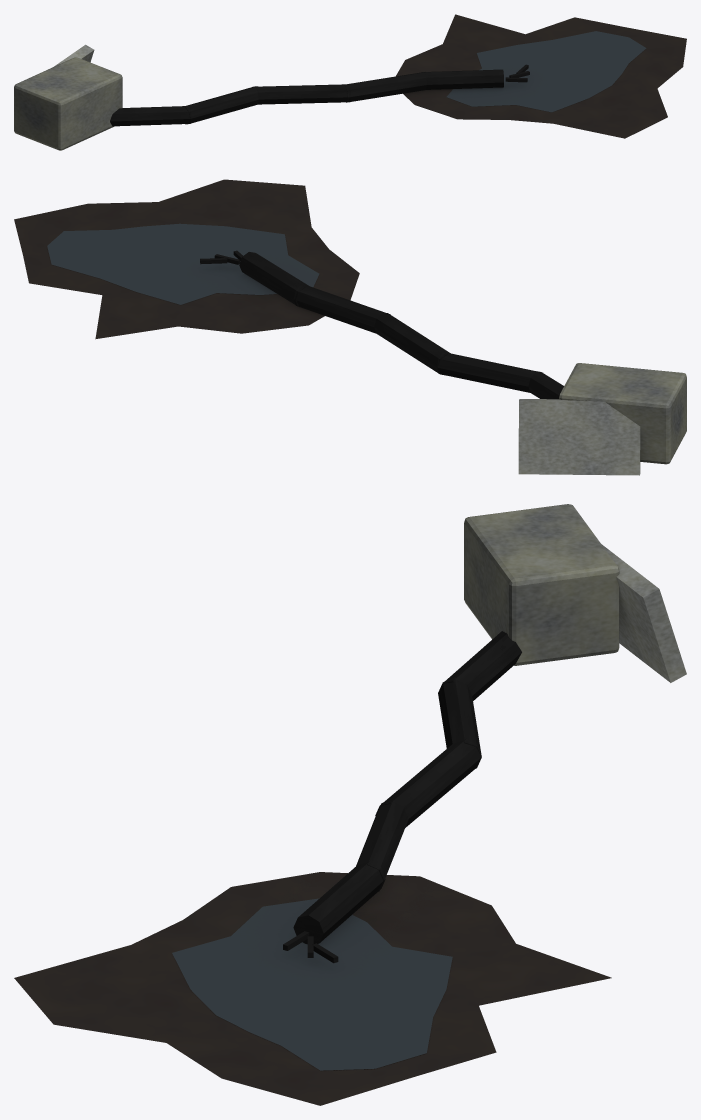
File: trap_city_light_sprung.glb
3 views of the same model, one above another, from view 1: azimuth 30°, elevation 25°; view 2: azimuth 150°, elevation 25°; view 3: azimuth 270°, elevation 25° (orthographic). The views are drawn at different scales.
Parts seen in each view (by area): view 1: trap_city_light_sprung.002; view 2: trap_city_light_sprung.002; view 3: trap_city_light_sprung.002.
Part boxes in pixels (x1,y1,x2,y2): trap_city_light_sprung.002: (14, 14, 686, 150); trap_city_light_sprung.002: (14, 179, 686, 475); trap_city_light_sprung.002: (14, 504, 686, 1105).
Size of the model in its own units: 2.54 by 0.231 by 1.4.
Materials: 4 (4 with a texture image).
